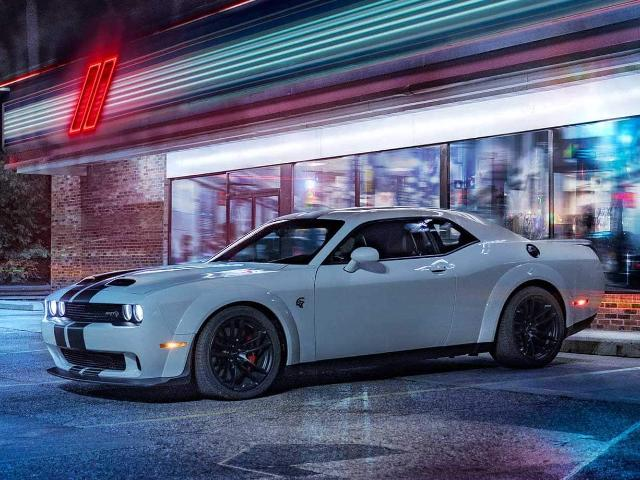dodge: (40, 206, 606, 400)
